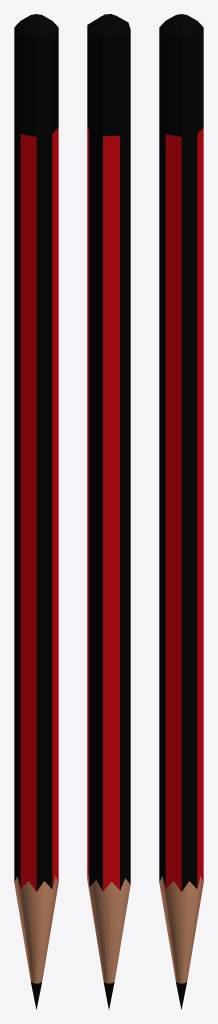
Rendered from Pencil.glb.
The picture shows the model from 3 angles, left to right: view 1: azimuth 90°, elevation 25°; view 2: azimuth 210°, elevation 25°; view 3: azimuth 270°, elevation 25°; orthographic projection.
Visible parts, largest first — view 1: Cylinder; view 2: Cylinder; view 3: Cylinder.
Boxes of the visible parts, x1=… form: Cylinder: x1=14, y1=14, x2=58, y2=1009; Cylinder: x1=87, y1=14, x2=130, y2=1009; Cylinder: x1=159, y1=14, x2=203, y2=1009.
Size of the model in its own units: 0.1137 by 2.76 by 0.1122.
